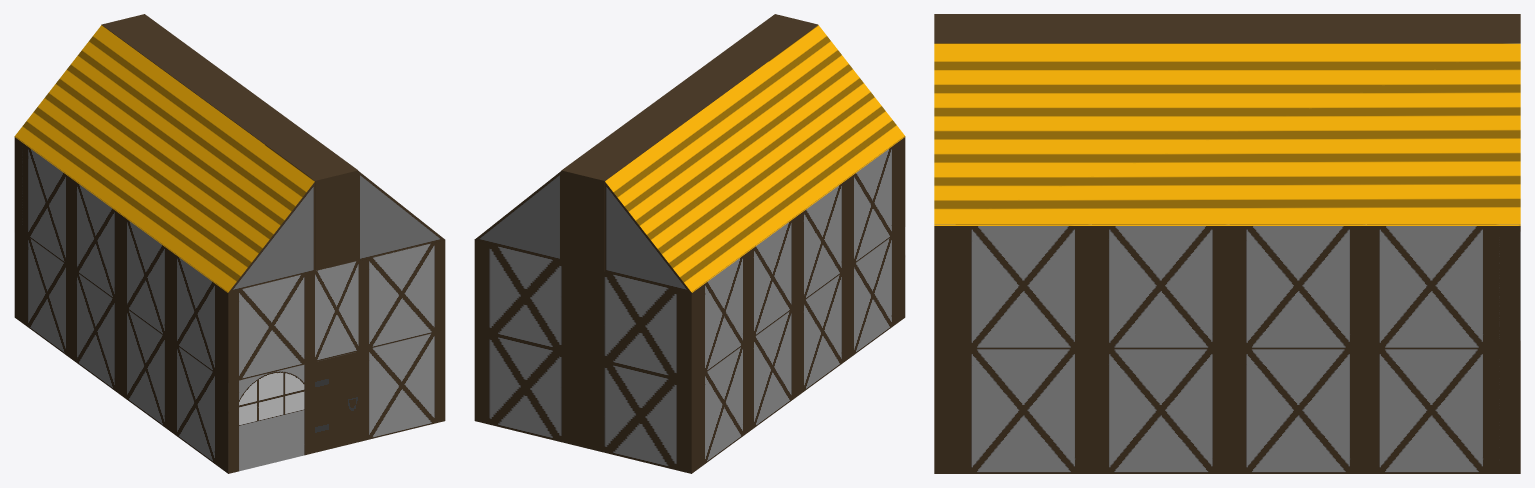
File: Maison.fbx
The picture shows the model from 3 angles, left to right: view 1: azimuth 30°, elevation 25°; view 2: azimuth 150°, elevation 25°; view 3: azimuth 270°, elevation 25°; orthographic projection. The views are drawn at different scales.
Visible parts, largest first — view 1: Roof Rectangle; view 2: Roof Rectangle; view 3: Roof Rectangle.
Boxes of the visible parts, <box> form: Roof Rectangle: <box>14,14,445,473</box>; Roof Rectangle: <box>474,14,905,473</box>; Roof Rectangle: <box>934,14,1520,473</box>.
Size of the model in its own units: 62.73 by 74.84 by 107.
Materials: 7 (7 with a texture image).
